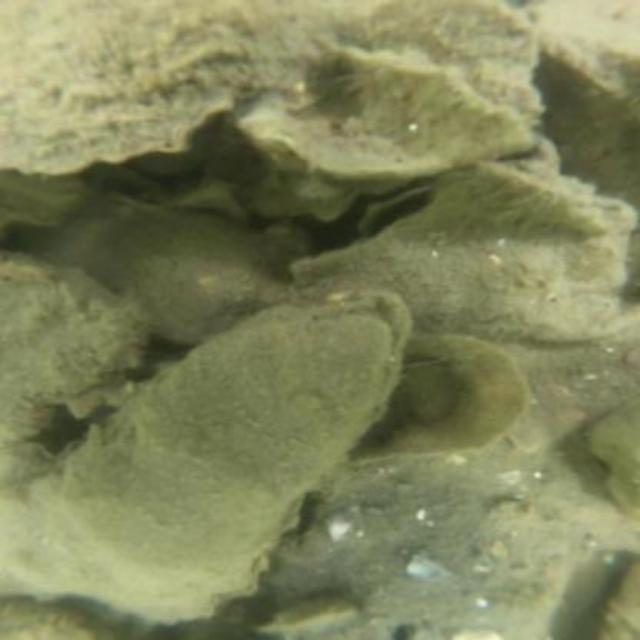Oyster-Closed: (49, 292, 414, 627), (298, 169, 636, 343), (232, 47, 558, 225), (2, 0, 347, 164), (43, 205, 279, 340), (336, 331, 538, 473), (4, 251, 144, 432), (312, 2, 533, 103), (0, 434, 98, 604)
Oyster-Open: (351, 180, 446, 243)
